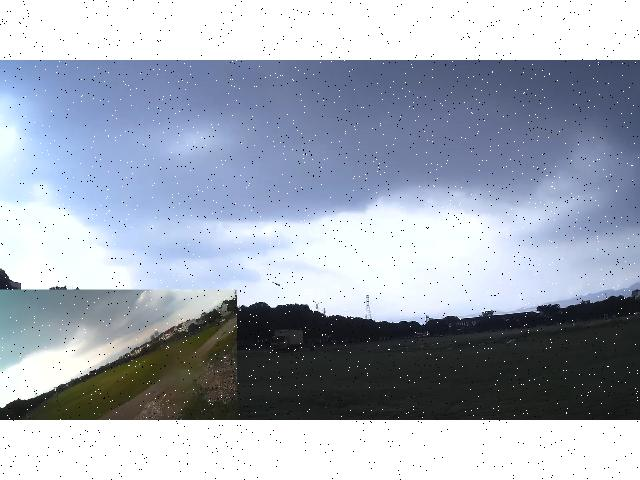Anti-Drone: (266, 278, 288, 292)
